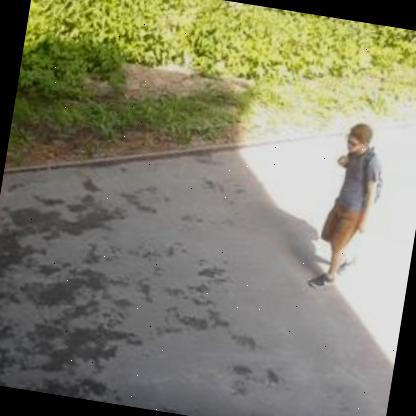person: (300, 112, 396, 300)
